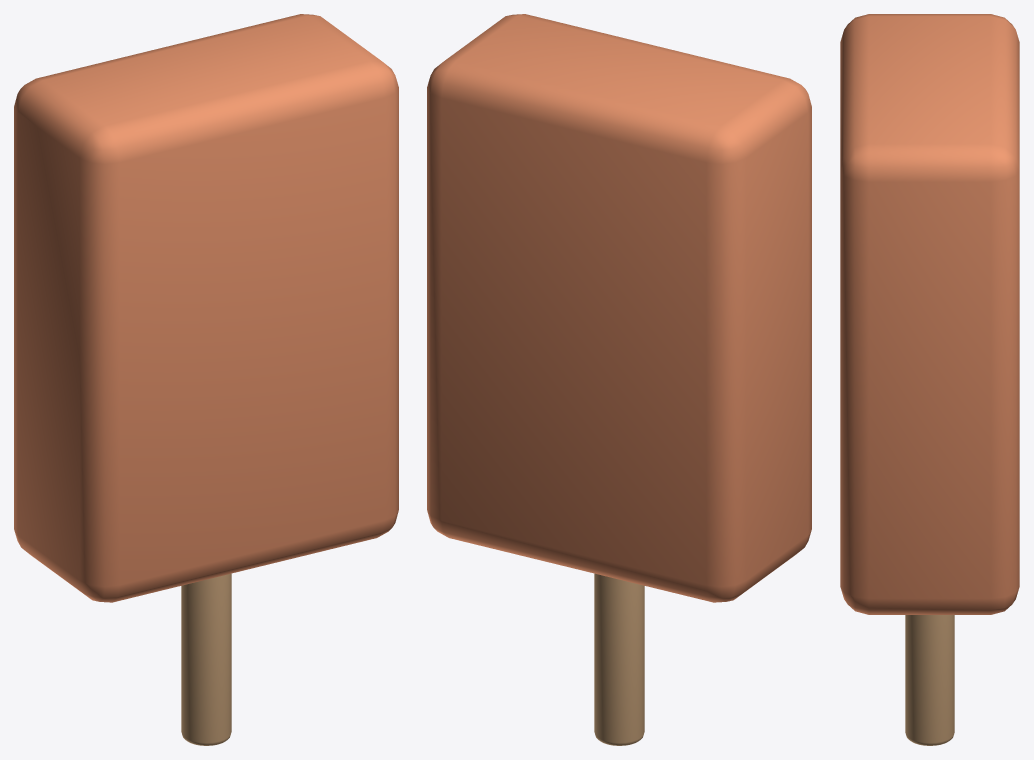
File: directional-sign.glb
3 renders of one model, left to right at view 1: azimuth 30°, elevation 25°; view 2: azimuth 150°, elevation 25°; view 3: azimuth 270°, elevation 25°, orthographic.
Parts seen in each view (by area): view 1: panel.006, post.001; view 2: panel.006, post.001; view 3: panel.006, post.001.
Part boxes in pixels (bbox=[...]): panel.006: bbox=[14, 14, 398, 602]; post.001: bbox=[181, 573, 231, 745]; panel.006: bbox=[427, 14, 811, 602]; post.001: bbox=[594, 573, 644, 745]; panel.006: bbox=[840, 14, 1019, 614]; post.001: bbox=[905, 615, 954, 745].
Size of the model in its own units: 0.8 by 1.62 by 0.4.
